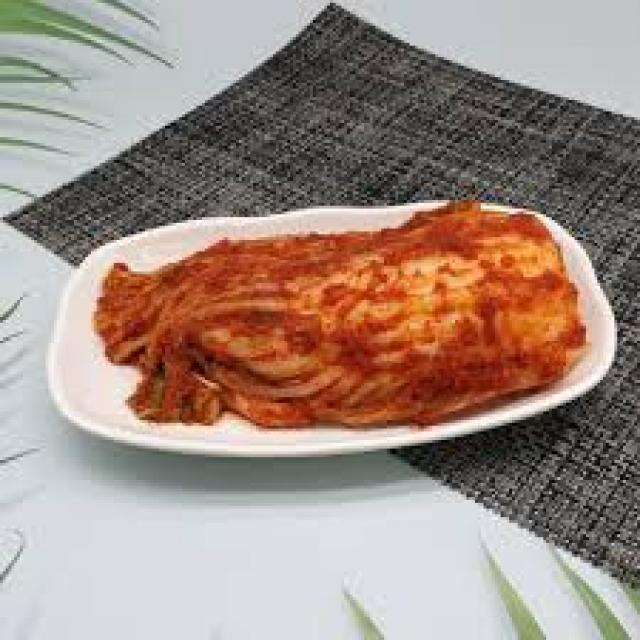kimchi: (122, 226, 558, 414)
